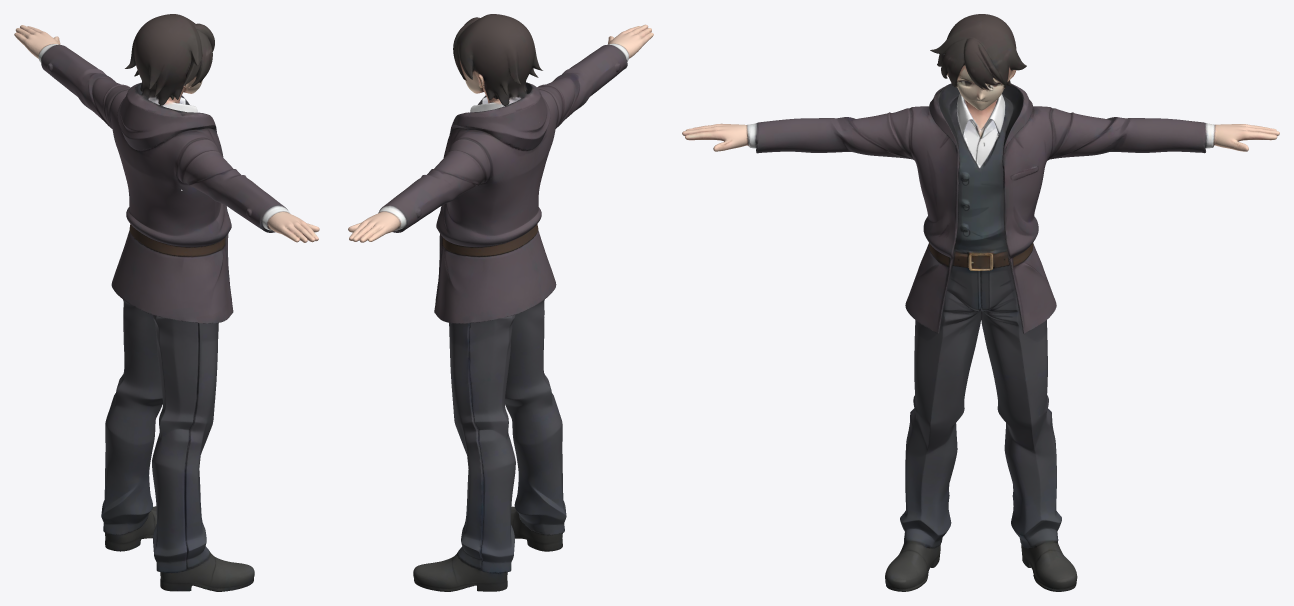
Rendered from asset.glb.
3 renders of one model, left to right at view 1: azimuth 30°, elevation 25°; view 2: azimuth 150°, elevation 25°; view 3: azimuth 270°, elevation 25°, orthographic. The views are drawn at different scales.
Parts seen in each view (by area): view 1: tripo_node_87e353bf-d696-45ae-b08a-dc1b78b014e8; view 2: tripo_node_87e353bf-d696-45ae-b08a-dc1b78b014e8; view 3: tripo_node_87e353bf-d696-45ae-b08a-dc1b78b014e8.
Part boxes in pixels (x1=…): tripo_node_87e353bf-d696-45ae-b08a-dc1b78b014e8: x1=14, y1=14, x2=319, y2=591; tripo_node_87e353bf-d696-45ae-b08a-dc1b78b014e8: x1=348, y1=14, x2=653, y2=591; tripo_node_87e353bf-d696-45ae-b08a-dc1b78b014e8: x1=682, y1=14, x2=1279, y2=591.
Bounding box in the file's own units: 0.1794 × 0.9997 × 0.9783.
Materials: 1 (1 with a texture image).
